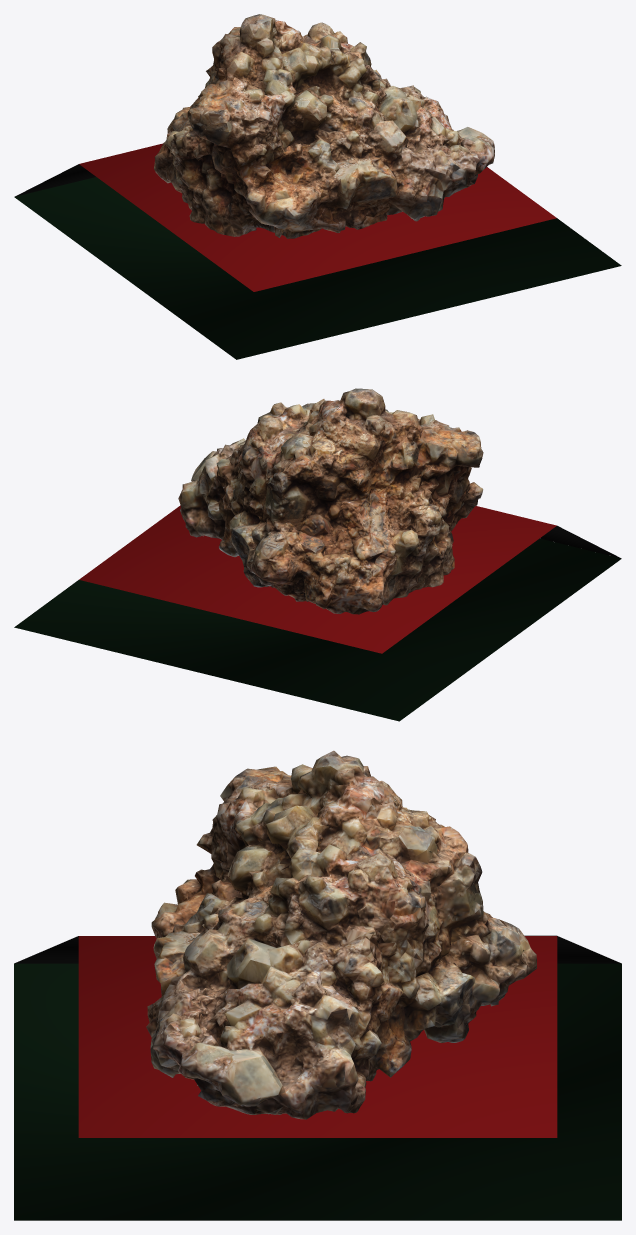
File: Granate.glb
3 renders of one model, top to bottom at view 1: azimuth 30°, elevation 25°; view 2: azimuth 150°, elevation 25°; view 3: azimuth 270°, elevation 25°, orthographic. The views are drawn at different scales.
Parts seen in each view (by area): view 1: rev; view 2: rev; view 3: rev.
Boxes of the visible parts, bbox=[...] form: rev: bbox=[14, 14, 621, 359]; rev: bbox=[14, 388, 621, 721]; rev: bbox=[14, 750, 621, 1220].
Size of the model in its own units: 10 by 5.45 by 10.
Materials: 4 (2 with a texture image).
